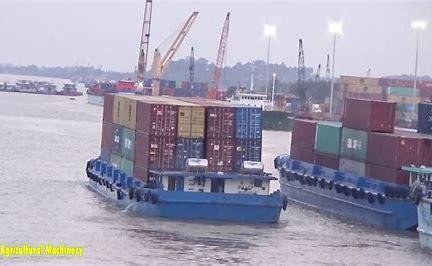Ship: (82, 87, 286, 225), (280, 85, 427, 229)
